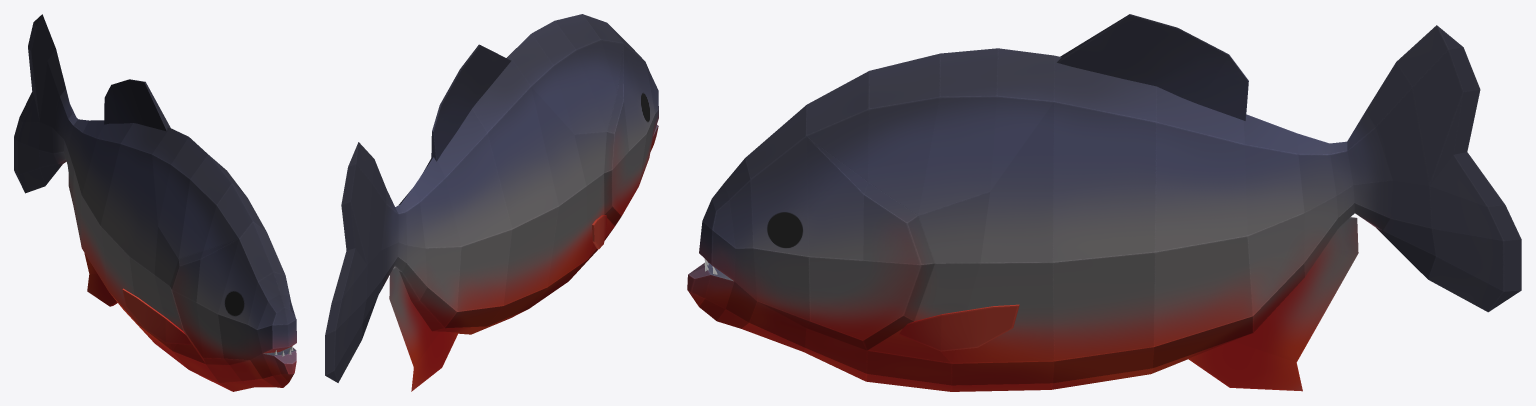
File: 067a4a0d-9adc-4190-9a9a-9abd9f7df32c.glb
3 renders of one model, left to right at view 1: azimuth 30°, elevation 25°; view 2: azimuth 150°, elevation 25°; view 3: azimuth 270°, elevation 25°, orthographic. The views are drawn at different scales.
Visible parts, largest first — view 1: Piranha_mesh; view 2: Piranha_mesh; view 3: Piranha_mesh.
Boxes of the visible parts, left/top/right/bottom form: Piranha_mesh: left=14, top=14, right=296, bottom=391; Piranha_mesh: left=325, top=14, right=658, bottom=391; Piranha_mesh: left=687, top=14, right=1521, bottom=391.
Size of the model in its own units: 1.81 by 3.66 by 7.33.
1 material, 1 textured.
